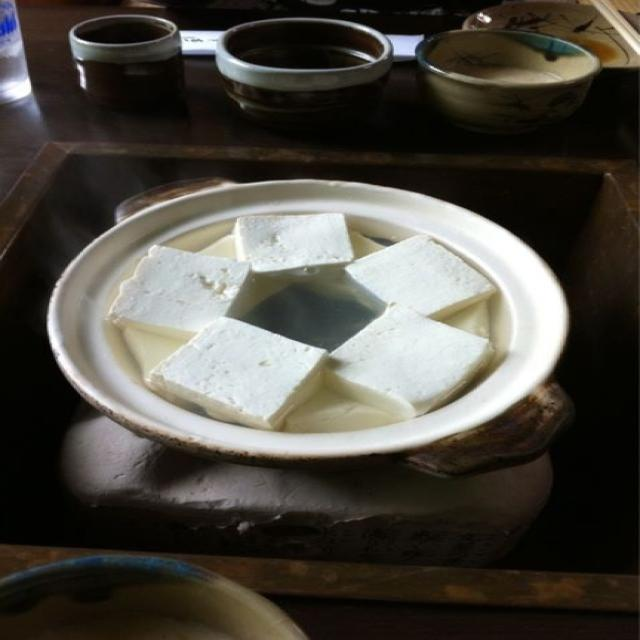豆腐料理: (49, 152, 547, 455)
